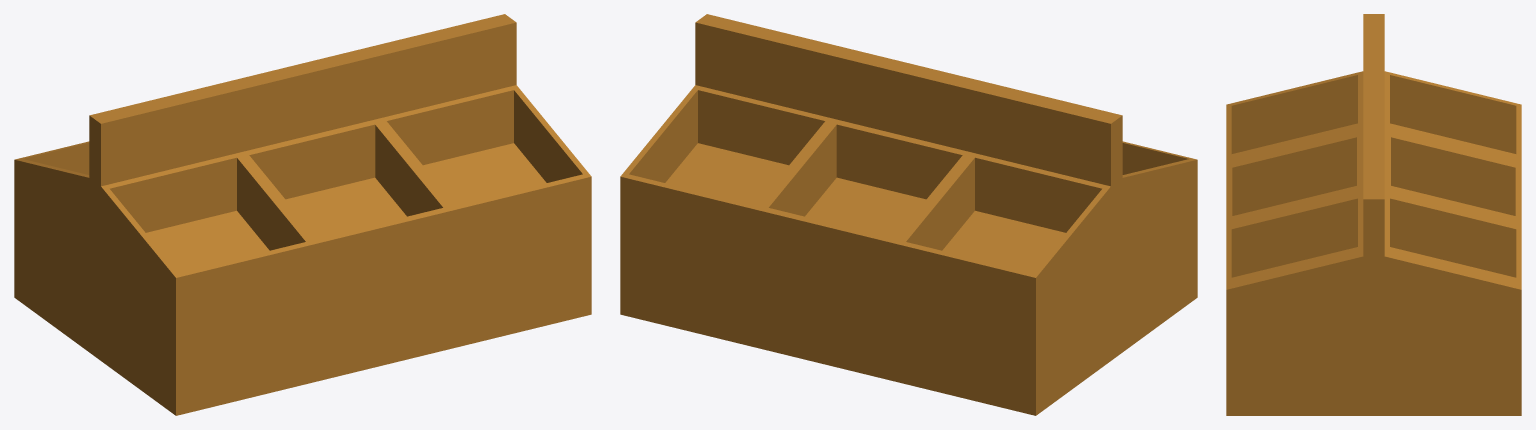
Rendered from ShelfProduce.glb.
3 views of the same model, side by side, from view 1: azimuth 30°, elevation 25°; view 2: azimuth 150°, elevation 25°; view 3: azimuth 270°, elevation 25° (orthographic). The views are drawn at different scales.
Visible parts, largest first — view 1: Box002; view 2: Box002; view 3: Box002.
Boxes of the visible parts, <box> form: Box002: <box>14,14,591,415</box>; Box002: <box>620,14,1197,415</box>; Box002: <box>1226,14,1521,415</box>.
Bounding box in the file's own units: 2.03 × 1.11 × 1.37.
